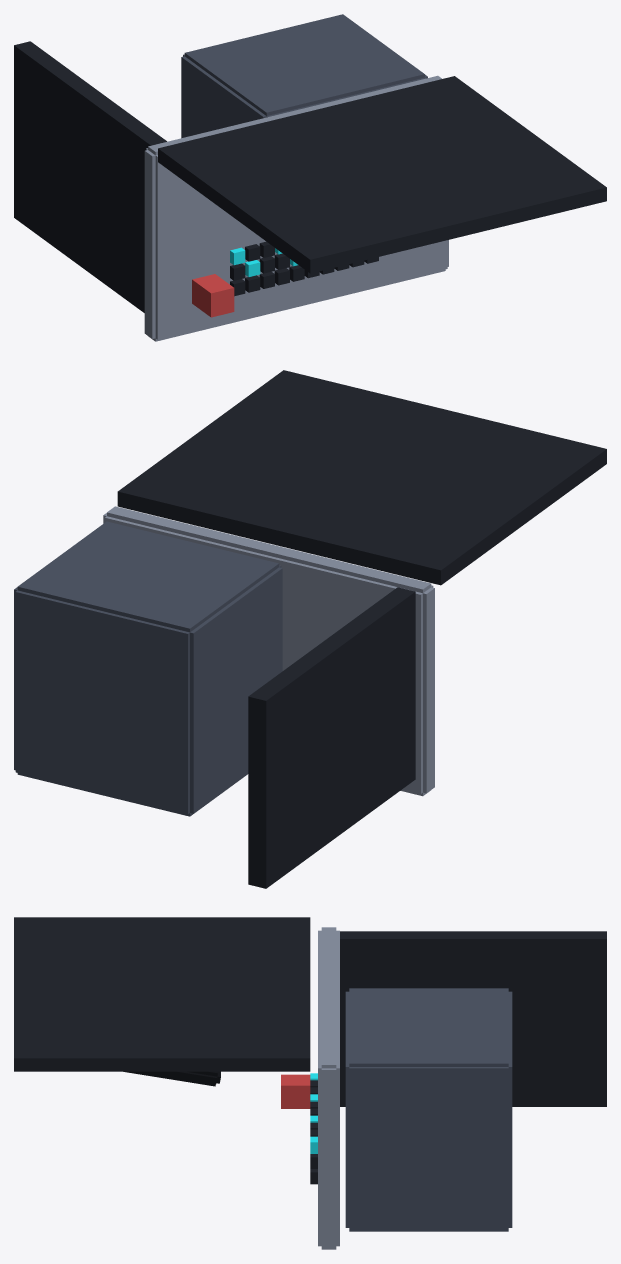
Rendered from shooter-terminal.glb.
3 views of the same model, one above another, from view 1: azimuth 30°, elevation 25°; view 2: azimuth 150°, elevation 25°; view 3: azimuth 270°, elevation 25° (orthographic). The views are drawn at different scales.
Visible parts, largest first — view 1: Model Mesh; view 2: Model Mesh; view 3: Model Mesh.
Part boxes in pixels (left/top/right/bottom): Model Mesh: left=14, top=14, right=606, bottom=341; Model Mesh: left=14, top=370, right=606, bottom=888; Model Mesh: left=14, top=917, right=606, bottom=1249.
Size of the model in its own units: 0.9 by 0.575 by 1.6.
2 materials, 2 textured.
